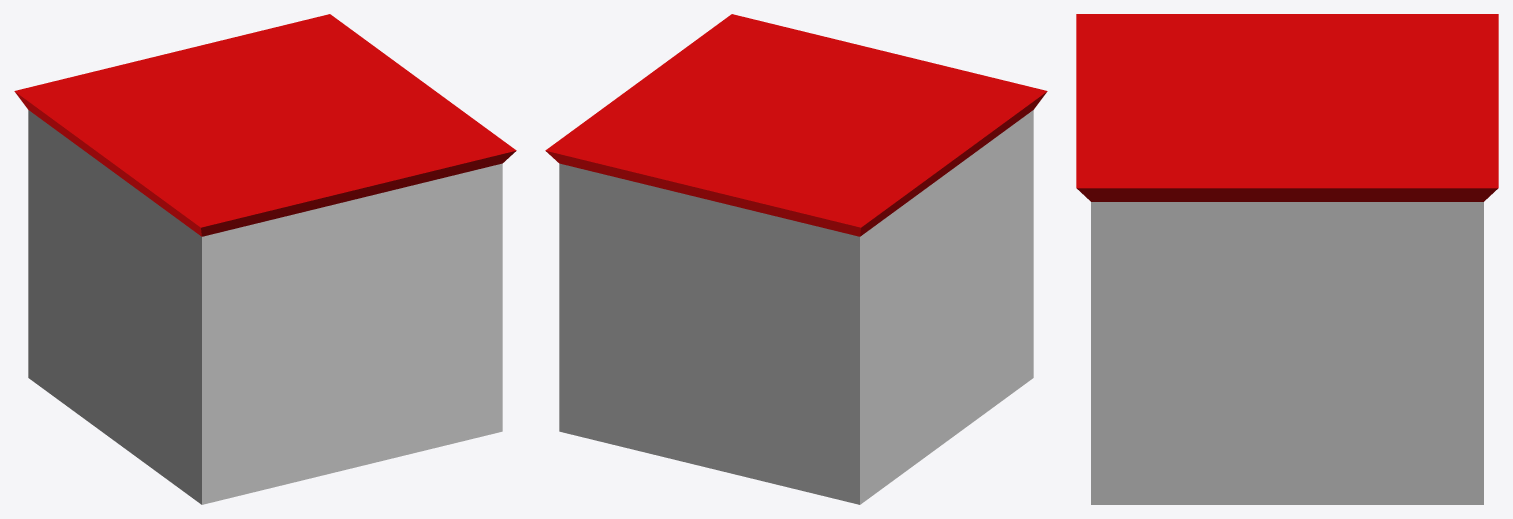
File: House2LOD.fbx
The picture shows the model from 3 angles, left to right: view 1: azimuth 30°, elevation 25°; view 2: azimuth 150°, elevation 25°; view 3: azimuth 270°, elevation 25°; orthographic projection. The views are drawn at different scales.
Visible parts, largest first — view 1: House2_LOD1; view 2: House2_LOD1; view 3: House2_LOD1.
Boxes of the visible parts, x1,y1,x2,y2 form: House2_LOD1: [14, 14, 516, 504]; House2_LOD1: [545, 14, 1047, 504]; House2_LOD1: [1076, 14, 1498, 504].
Size of the model in its own units: 525 by 450 by 537.
